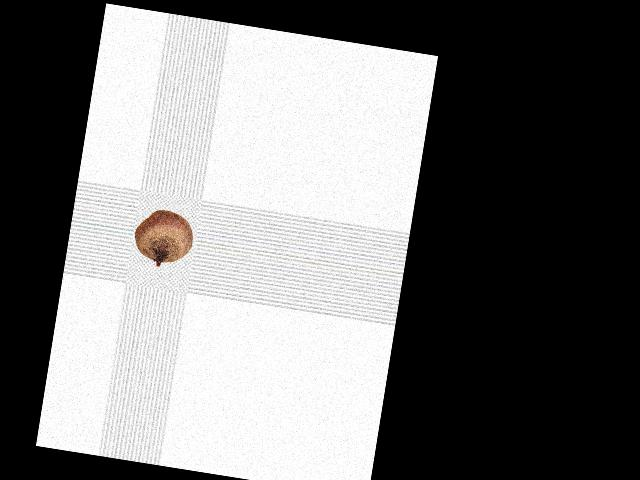beet: (130, 206, 196, 271)
